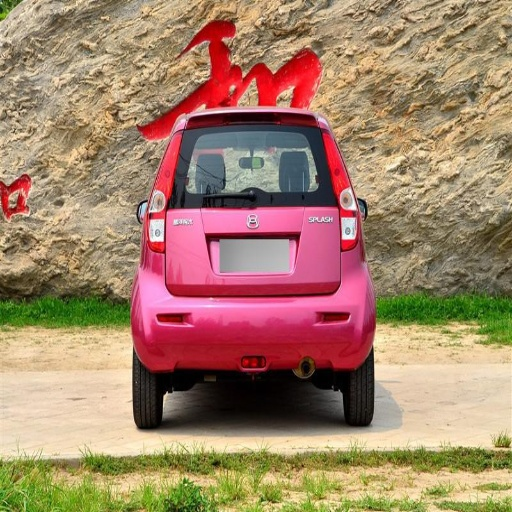back_bumper: (131, 243, 375, 372)
tailgate: (259, 260, 323, 294)
trunk: (147, 193, 340, 296)
